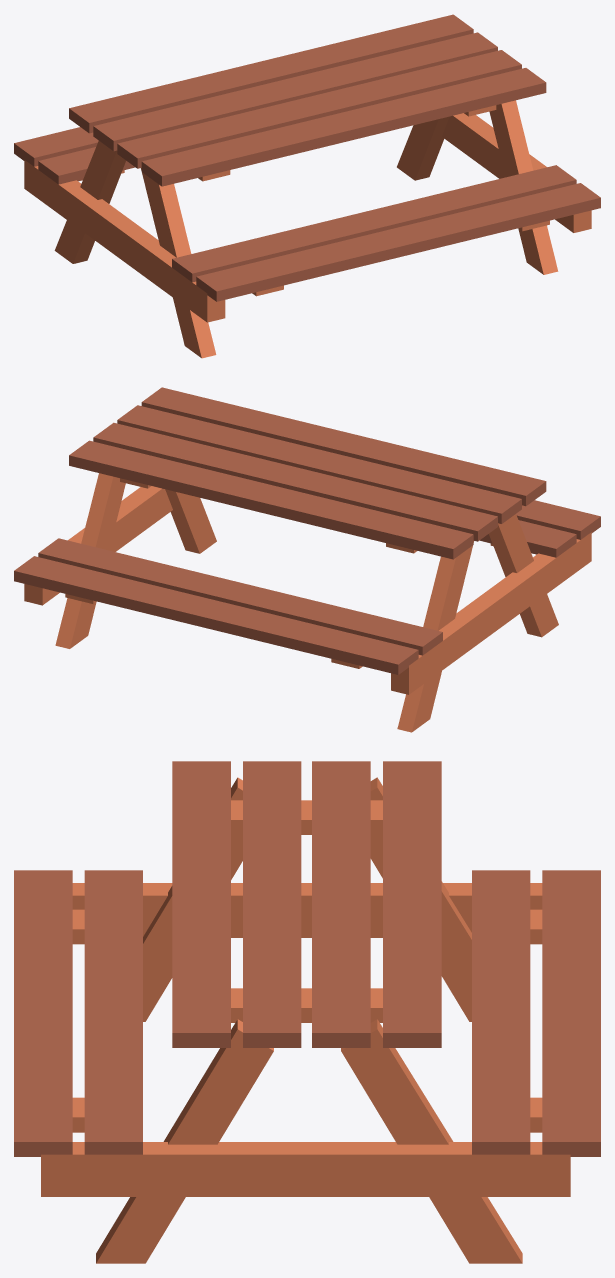
File: Bench_02.fbx
3 renders of one model, top to bottom at view 1: azimuth 30°, elevation 25°; view 2: azimuth 150°, elevation 25°; view 3: azimuth 270°, elevation 25°, orthographic. The views are drawn at different scales.
Parts seen in each view (by area): view 1: Bench_02; view 2: Bench_02; view 3: Bench_02.
Part boxes in pixels (<box>): Bench_02: <box>14,14,600,358</box>; Bench_02: <box>14,387,600,732</box>; Bench_02: <box>14,761,600,1263</box>.
Bounding box in the file's own units: 1.83 × 0.7579 × 1.67.
